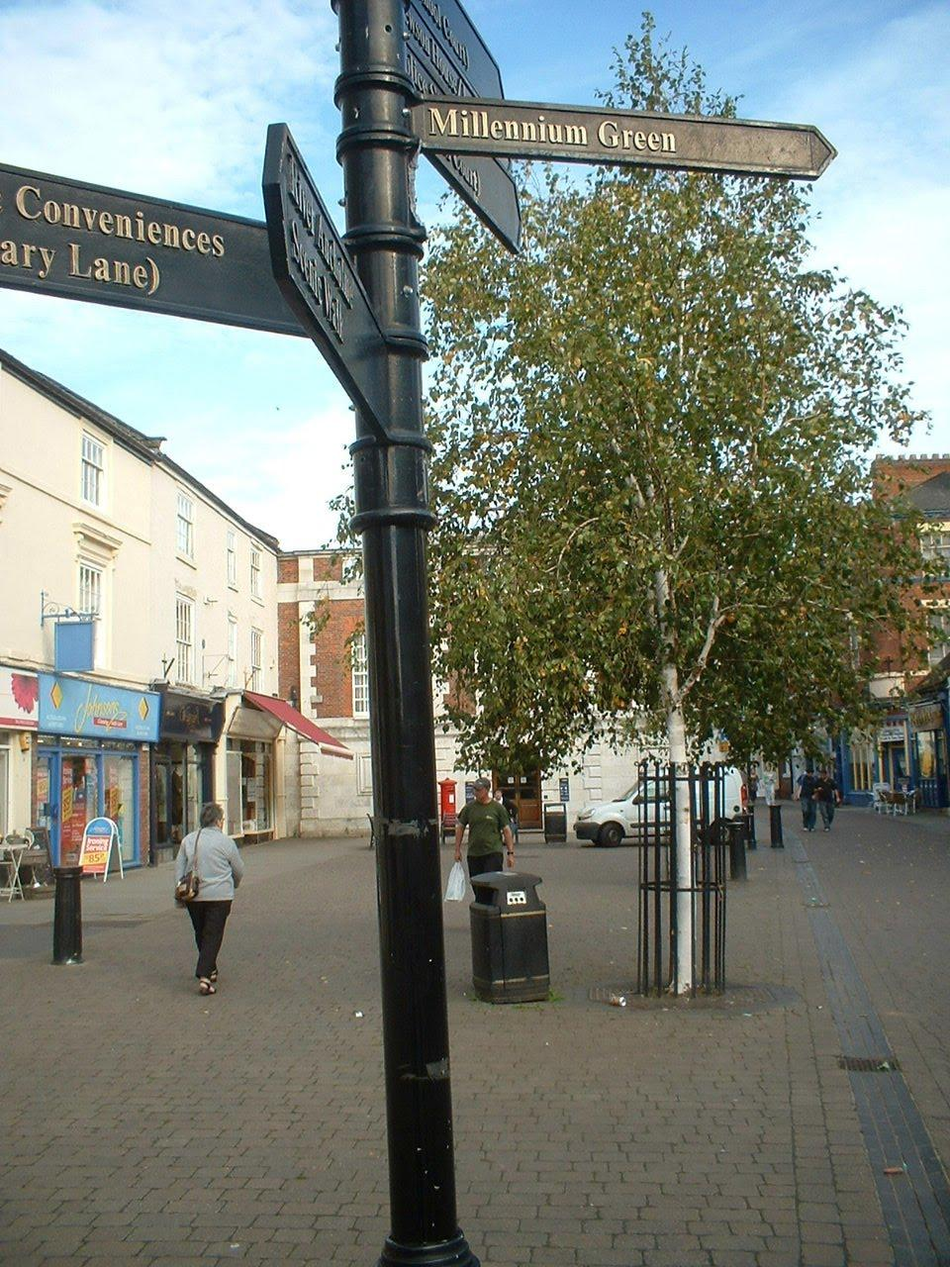short sleeve shirt: (457, 802, 510, 858), (816, 779, 839, 803), (796, 774, 816, 799)
sweater: (172, 828, 244, 904)
trousers: (185, 900, 233, 979), (466, 854, 502, 896), (800, 796, 817, 828), (820, 801, 836, 827)
